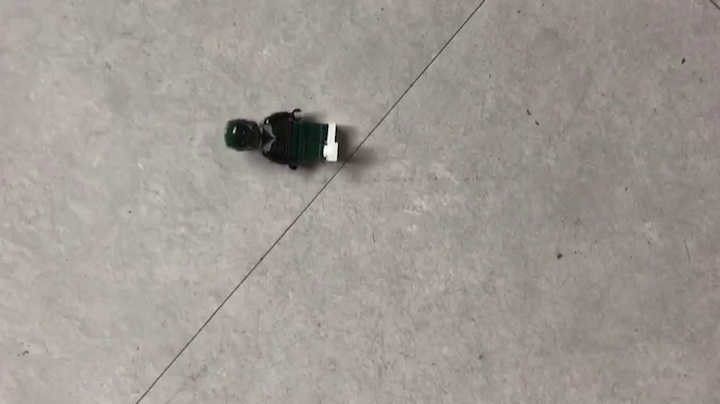people: (225, 108, 347, 171)
